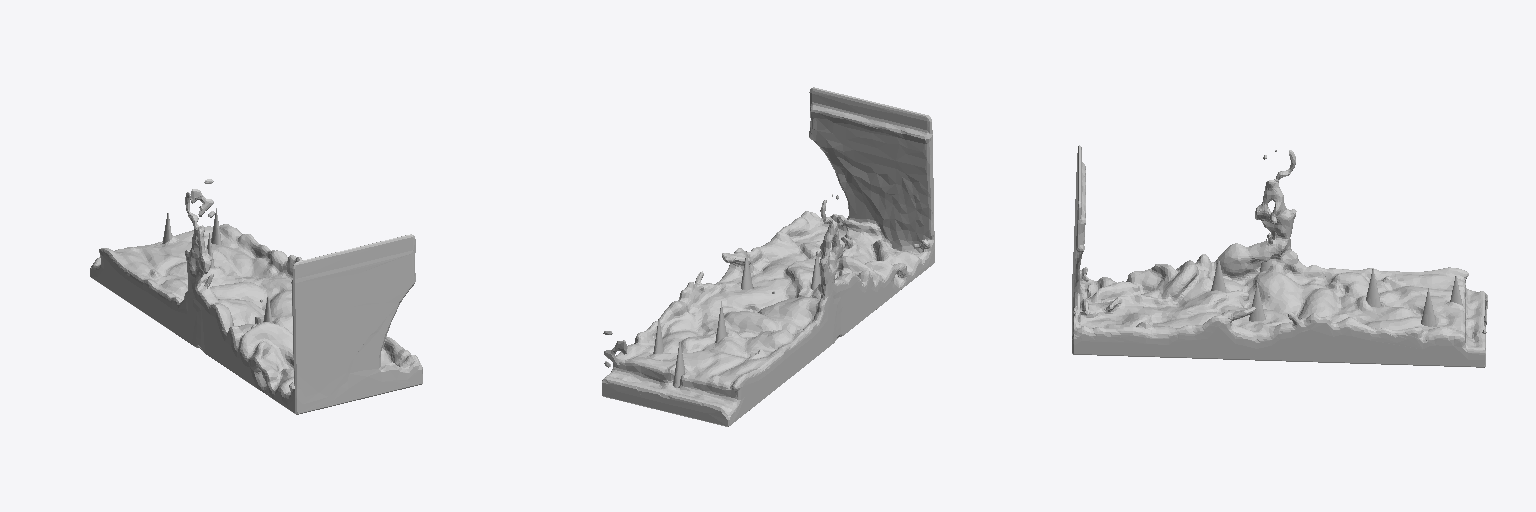
3 views of the same model, side by side, from view 1: azimuth 30°, elevation 25°; view 2: azimuth 150°, elevation 25°; view 3: azimuth 270°, elevation 25° (orthographic).
Visible parts, largest first — view 1: Liquid_Domain; view 2: Liquid_Domain; view 3: Liquid_Domain.
Part boxes in pixels (x1,y1,x2,y2): Liquid_Domain: (90, 179, 422, 414); Liquid_Domain: (602, 87, 934, 426); Liquid_Domain: (1072, 145, 1487, 367).
Bounding box in the file's own units: 129 × 158 × 363.